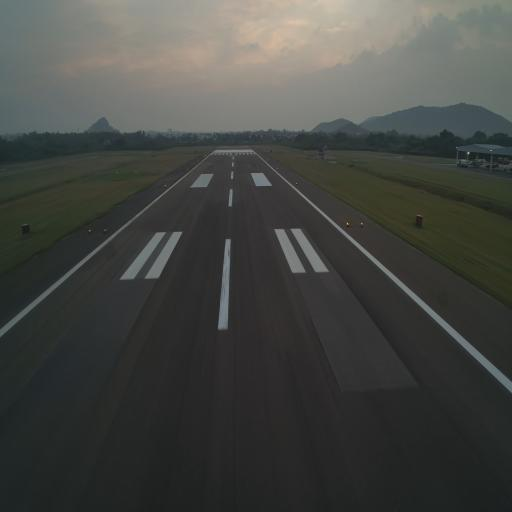on: (346, 220, 350, 227), (360, 220, 364, 227), (88, 226, 92, 233), (103, 228, 108, 233)
